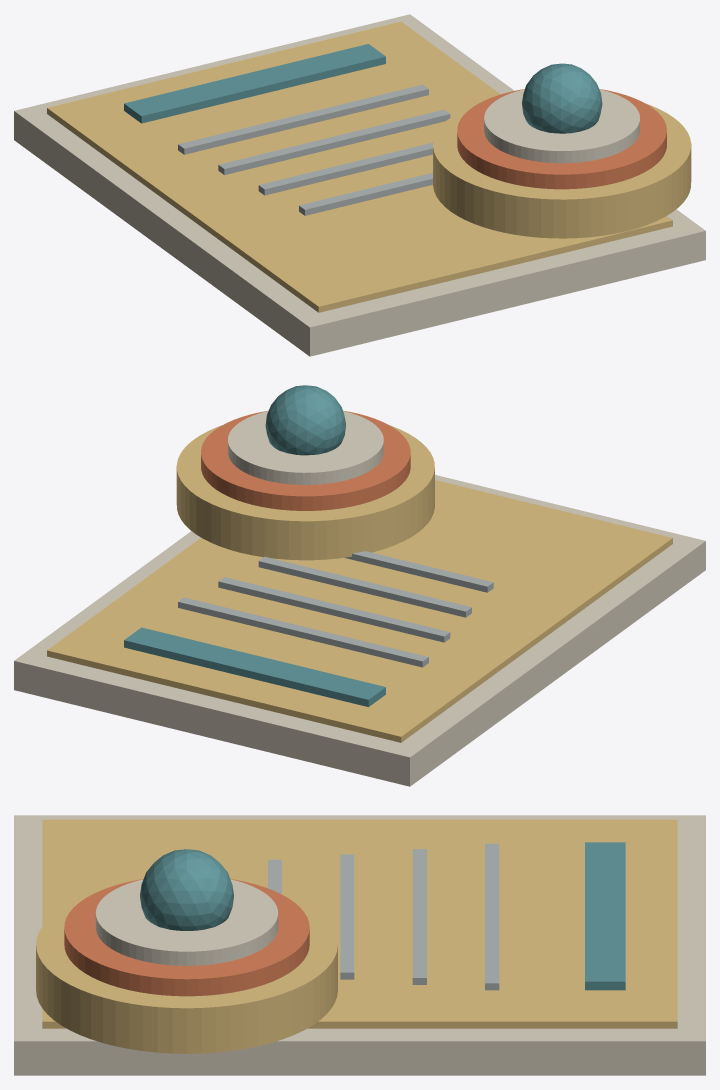
File: quality-certificate.glb
3 renders of one model, top to bottom at view 1: azimuth 30°, elevation 25°; view 2: azimuth 150°, elevation 25°; view 3: azimuth 270°, elevation 25°, orthographic. The views are drawn at different scales.
Visible parts, largest first — view 1: document_inner_border, certificate_document, quality_seal_base, quality_seal_inner, quality_seal_face, document_header, quality_seal_emblem, document_text_line_0, document_text_line_1, document_text_line_2, document_text_line_3; view 2: document_inner_border, certificate_document, quality_seal_base, quality_seal_inner, quality_seal_face, document_header, quality_seal_emblem, document_text_line_0, document_text_line_1, document_text_line_2, document_text_line_3; view 3: document_inner_border, certificate_document, quality_seal_base, quality_seal_inner, quality_seal_face, quality_seal_emblem, document_header, document_text_line_0, document_text_line_1, document_text_line_2, document_text_line_3.
Part boxes in pixels (x1,y1,x2,y2): document_inner_border: [47, 21, 672, 312]; certificate_document: [14, 14, 705, 356]; quality_seal_base: [433, 103, 691, 238]; quality_seal_inner: [457, 89, 666, 189]; quality_seal_face: [484, 89, 639, 163]; document_header: [124, 44, 385, 123]; quality_seal_emblem: [522, 63, 602, 133]; document_text_line_0: [178, 84, 428, 154]; document_text_line_1: [218, 109, 450, 174]; document_text_line_2: [258, 142, 433, 195]; document_text_line_3: [299, 173, 432, 215]; document_inner_border: [47, 480, 672, 742]; certificate_document: [14, 475, 705, 786]; quality_seal_base: [176, 425, 434, 560]; quality_seal_inner: [201, 410, 410, 510]; quality_seal_face: [228, 411, 383, 484]; document_header: [124, 627, 385, 706]; quality_seal_emblem: [265, 385, 345, 455]; document_text_line_0: [178, 597, 428, 667]; document_text_line_1: [218, 577, 450, 642]; document_text_line_2: [258, 556, 471, 617]; document_text_line_3: [344, 551, 493, 592]; document_inner_border: [42, 819, 677, 1028]; certificate_document: [14, 815, 705, 1075]; quality_seal_base: [36, 896, 337, 1053]; quality_seal_inner: [64, 879, 309, 996]; quality_seal_face: [95, 879, 278, 965]; quality_seal_emblem: [140, 849, 233, 930]; document_header: [585, 842, 625, 990]; document_text_line_0: [485, 843, 499, 990]; document_text_line_1: [412, 849, 426, 984]; document_text_line_2: [340, 854, 354, 979]; document_text_line_3: [268, 859, 281, 894].
Size of the model in its own units: 1.88 by 0.64 by 2.2.
